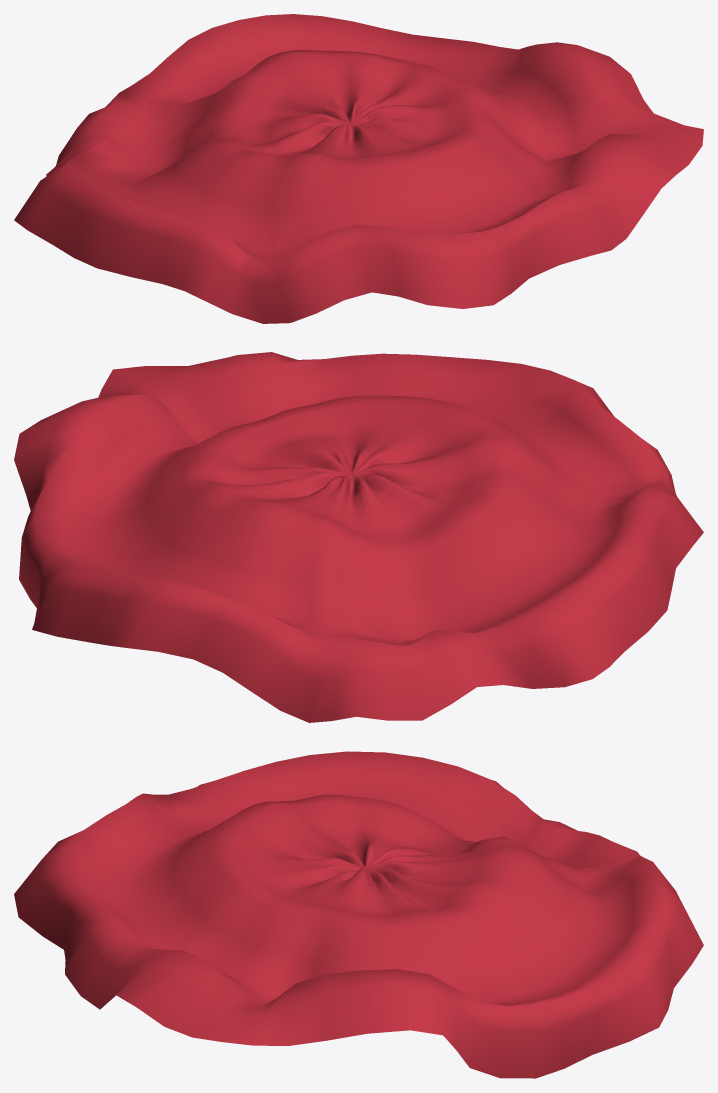
The model's file is cascaraTomate.fbx.
The picture shows the model from 3 angles, top to bottom: view 1: azimuth 30°, elevation 25°; view 2: azimuth 150°, elevation 25°; view 3: azimuth 270°, elevation 25°; orthographic projection. The views are drawn at different scales.
Visible parts, largest first — view 1: cascaraTomate; view 2: cascaraTomate; view 3: cascaraTomate.
Part boxes in pixels (x1,y1,x2,y2): cascaraTomate: (14, 14, 703, 323); cascaraTomate: (14, 352, 703, 722); cascaraTomate: (14, 751, 703, 1078).
Size of the model in its own units: 108 by 21.81 by 108.
